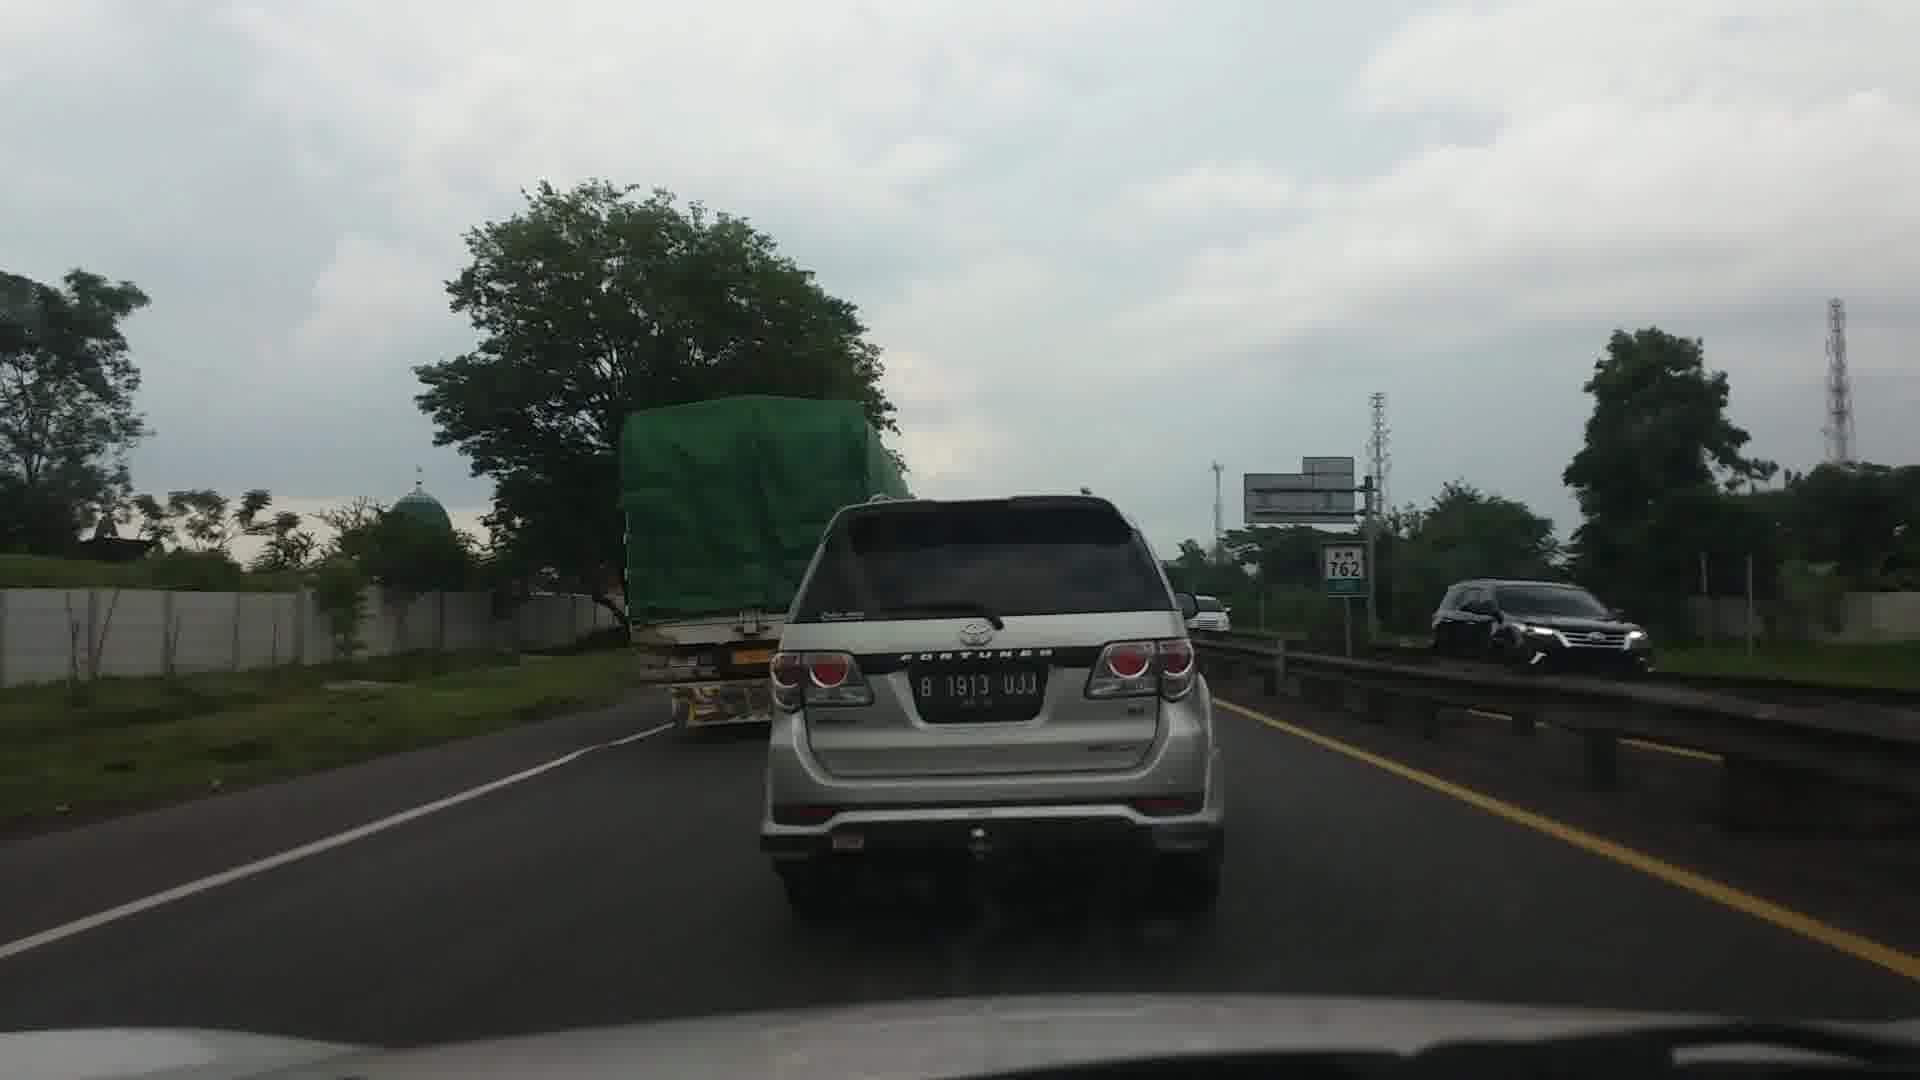plate_positive: (918, 669, 1040, 709)
